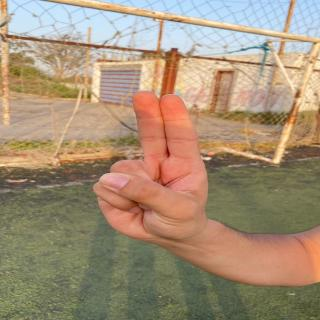TA: (74, 84, 234, 243)
